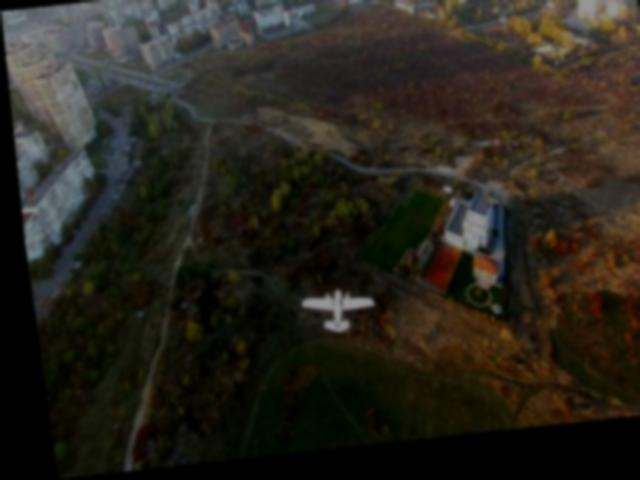uav: (287, 280, 377, 344)
